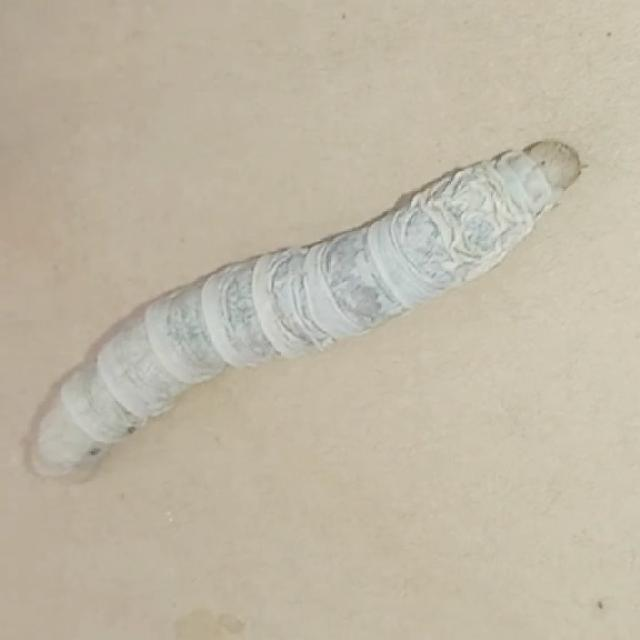Grasserie: (27, 102, 585, 494)
